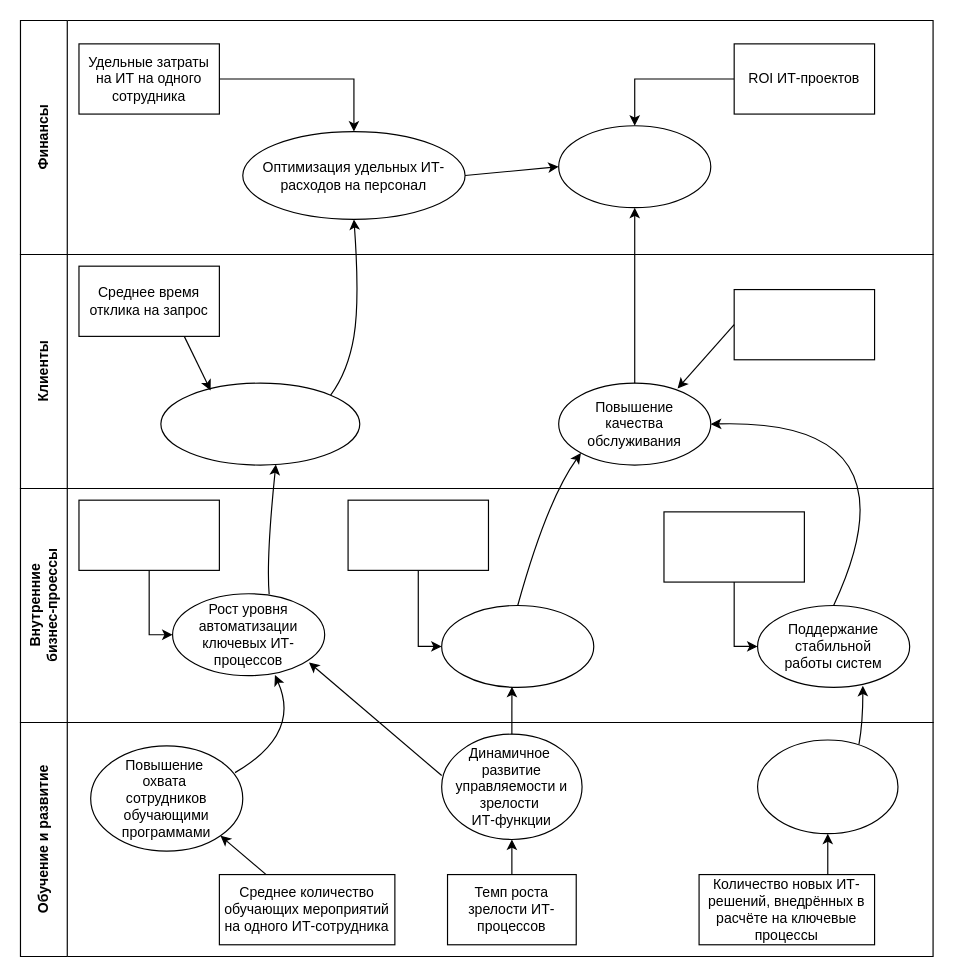
Some shapes in this 954 by 977 pixel diagram are drawn without their labels. Each missing label, with the centre of its shape:
"Время восстановления после сбоя" belongs at point 417,534.
"Доля автоматизи-рованных процессов" belongs at point 148,534.
"Доступность ключевых ИТ-сервисов" belongs at point 733,546.
"Повышение отказоустойчивости" belongs at point 517,645.
"Повышение технологической адаптивности процессов" belongs at point 827,786.
"Повышение эффективности инвестиций" belongs at point 634,166.
"Сокращение времени реагирования на обращения пользователей" belongs at point 260,423.
"Уровень удовлетворённости пользователей" belongs at point 804,324.
